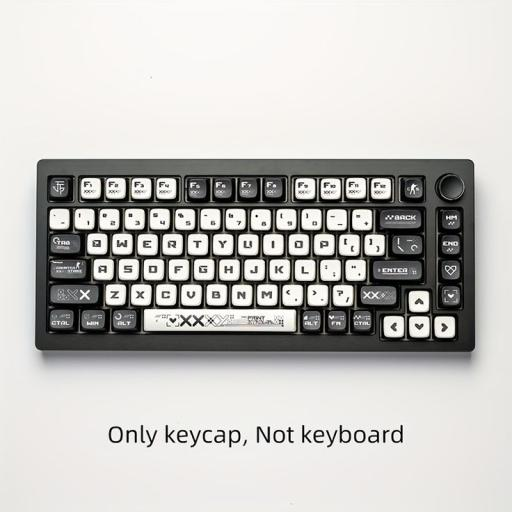KEYBOARD-2: (34, 152, 482, 354)
